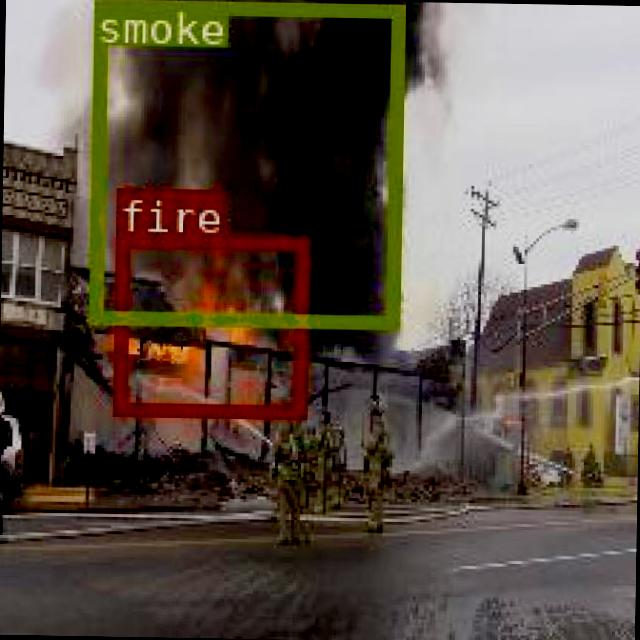fire: (112, 232, 307, 415)
smoke: (87, 0, 400, 325)
